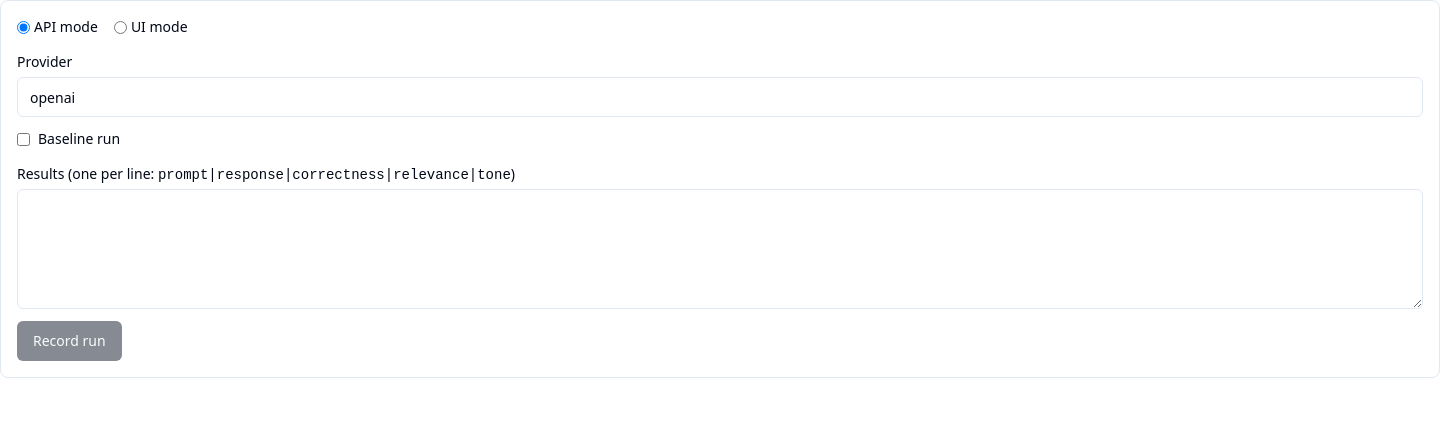
RecordRunForm › shows an error when run creation fails and does not attempt to submit results
Type "p|r|5|5|5" into the text box labelled "Results" at coordinates (720, 249), box [17,189,1423,309]
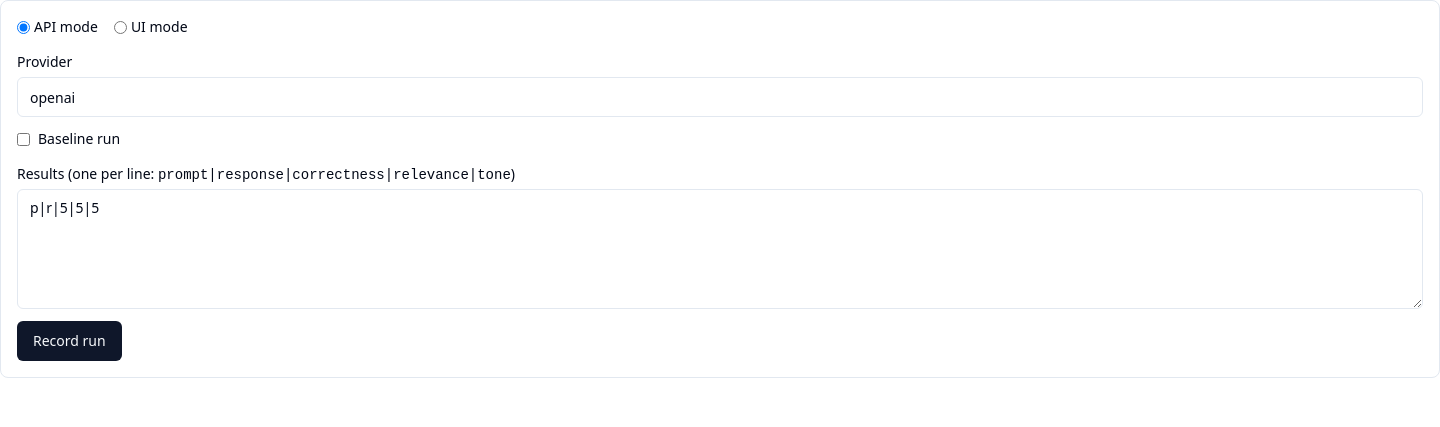
Click the button "Record run" at coordinates (69, 341), box [17,321,122,361]
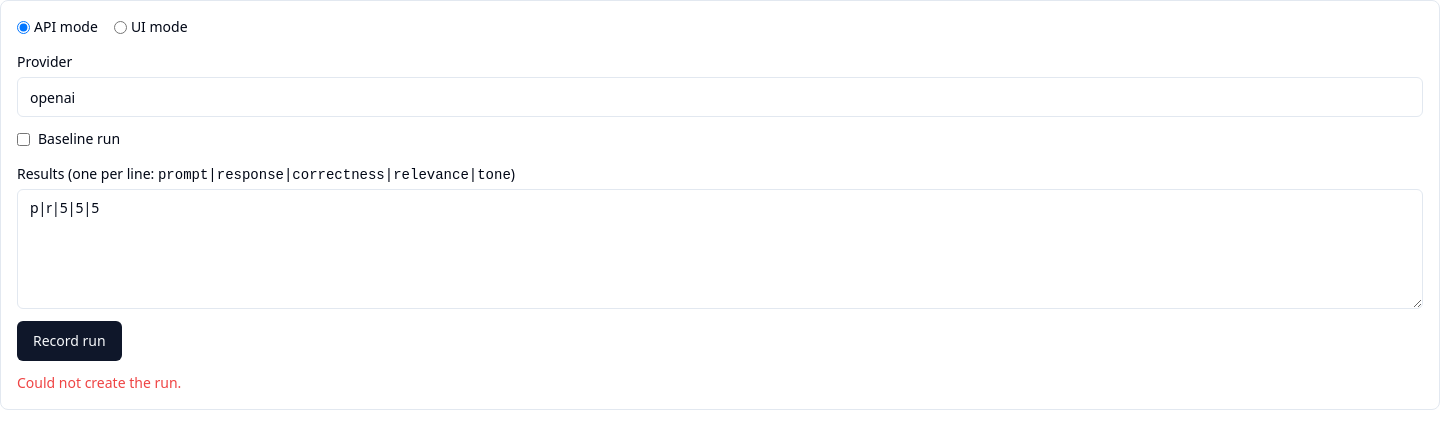
Expected: the text "Could not create the run." is shown, [17,373,181,392]
